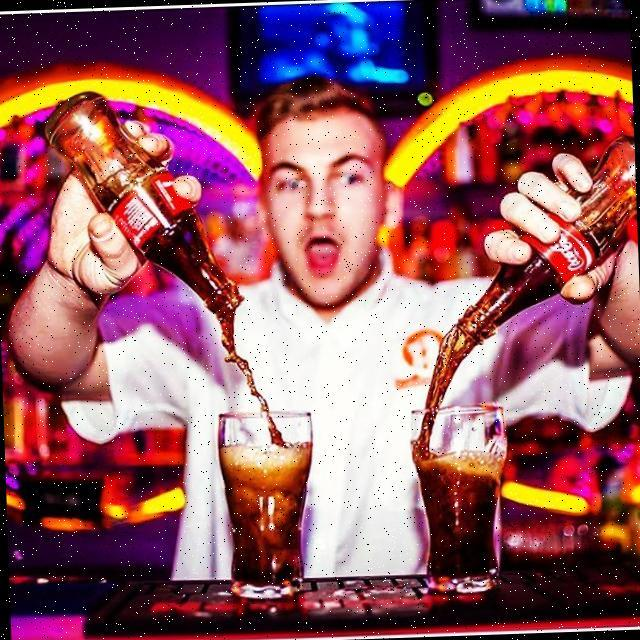coca-cola: (42, 82, 247, 325), (451, 131, 640, 344)
